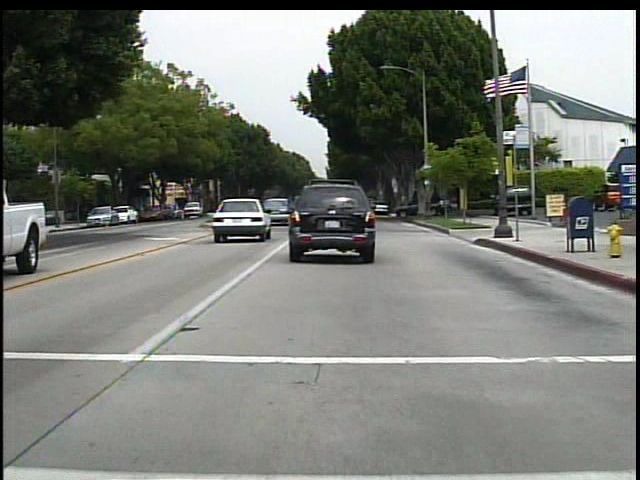car: (276, 176, 379, 269), (215, 195, 273, 245), (87, 205, 118, 225)
